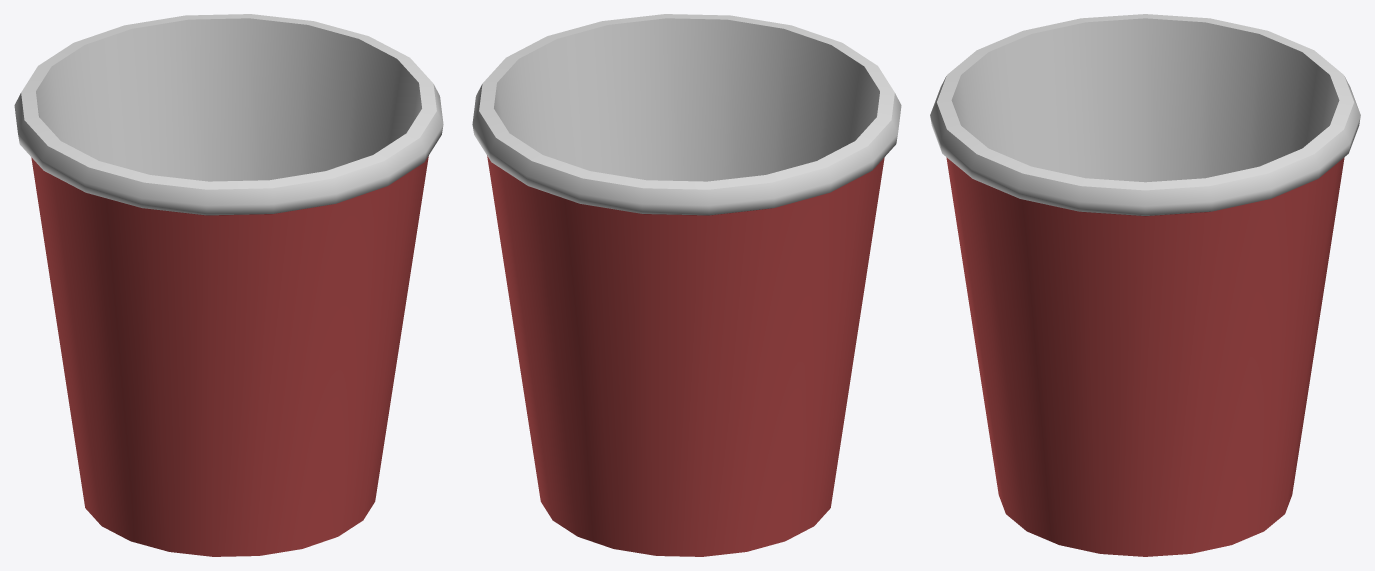
File: solo_cup_v2.fbx
3 views of the same model, side by side, from view 1: azimuth 30°, elevation 25°; view 2: azimuth 150°, elevation 25°; view 3: azimuth 270°, elevation 25° (orthographic).
Parts seen in each view (by area): view 1: cup; view 2: cup; view 3: cup.
Part boxes in pixels (x1,y1,x2,y2): cup: [14, 14, 443, 556]; cup: [472, 14, 901, 556]; cup: [930, 14, 1360, 556].
Bounding box in the file's own units: 0.2413 × 0.2439 × 0.2413.
1 material, 1 textured.
